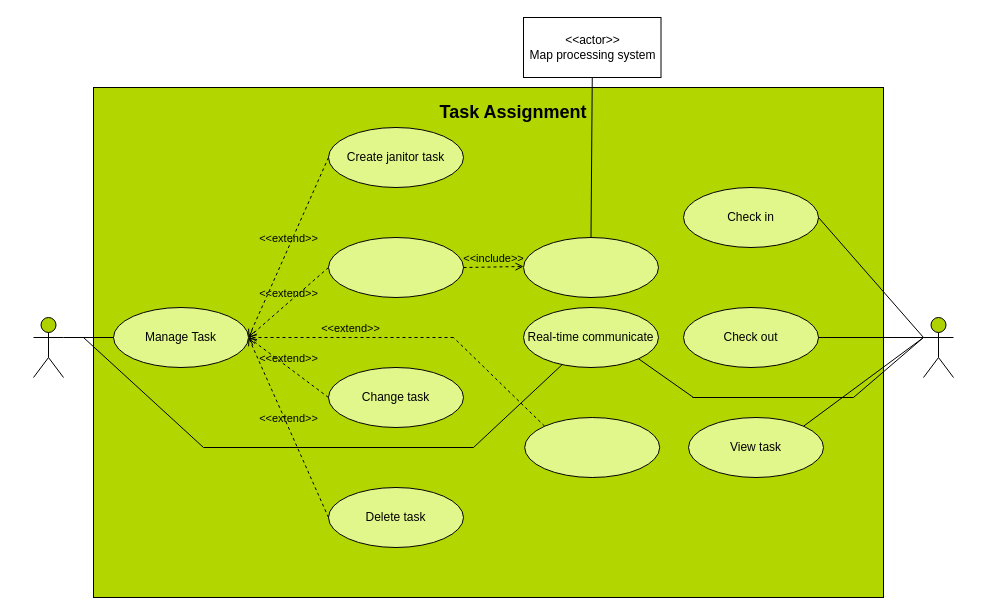
This 1003x615 diagram has some shape labels left out. Each missing label, with the centre of its shape:
"Back officer" belongs at point (48, 347).
"Collector/Janitor" belongs at point (938, 347).
"Confirm check-out" belongs at point (592, 447).
"Create collector task" belongs at point (396, 267).
"View optimized route" belongs at point (590, 267).
